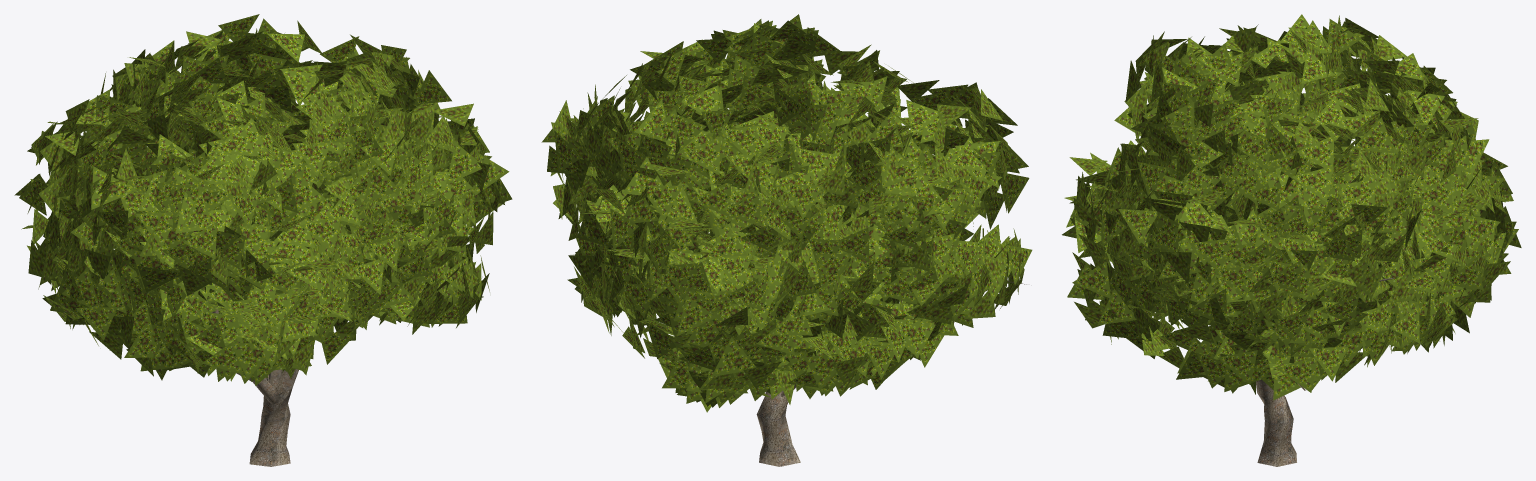
File: Ginkgo_Biloba_Spring_Adult.glb
The picture shows the model from 3 angles, left to right: view 1: azimuth 30°, elevation 25°; view 2: azimuth 150°, elevation 25°; view 3: azimuth 270°, elevation 25°; orthographic projection.
Visible parts, largest first — view 1: Ginkgo_Biloba_Spring_Adult__LOD3; view 2: Ginkgo_Biloba_Spring_Adult__LOD3; view 3: Ginkgo_Biloba_Spring_Adult__LOD3.
Boxes of the visible parts, x1,y1,x2,y2 form: Ginkgo_Biloba_Spring_Adult__LOD3: [14, 14, 512, 466]; Ginkgo_Biloba_Spring_Adult__LOD3: [541, 14, 1032, 466]; Ginkgo_Biloba_Spring_Adult__LOD3: [1062, 14, 1521, 466].
Size of the model in its own units: 34.5 by 29.59 by 30.93.
Materials: 2 (2 with a texture image).
